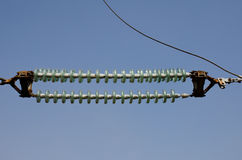isolator: (34, 67, 187, 104)
